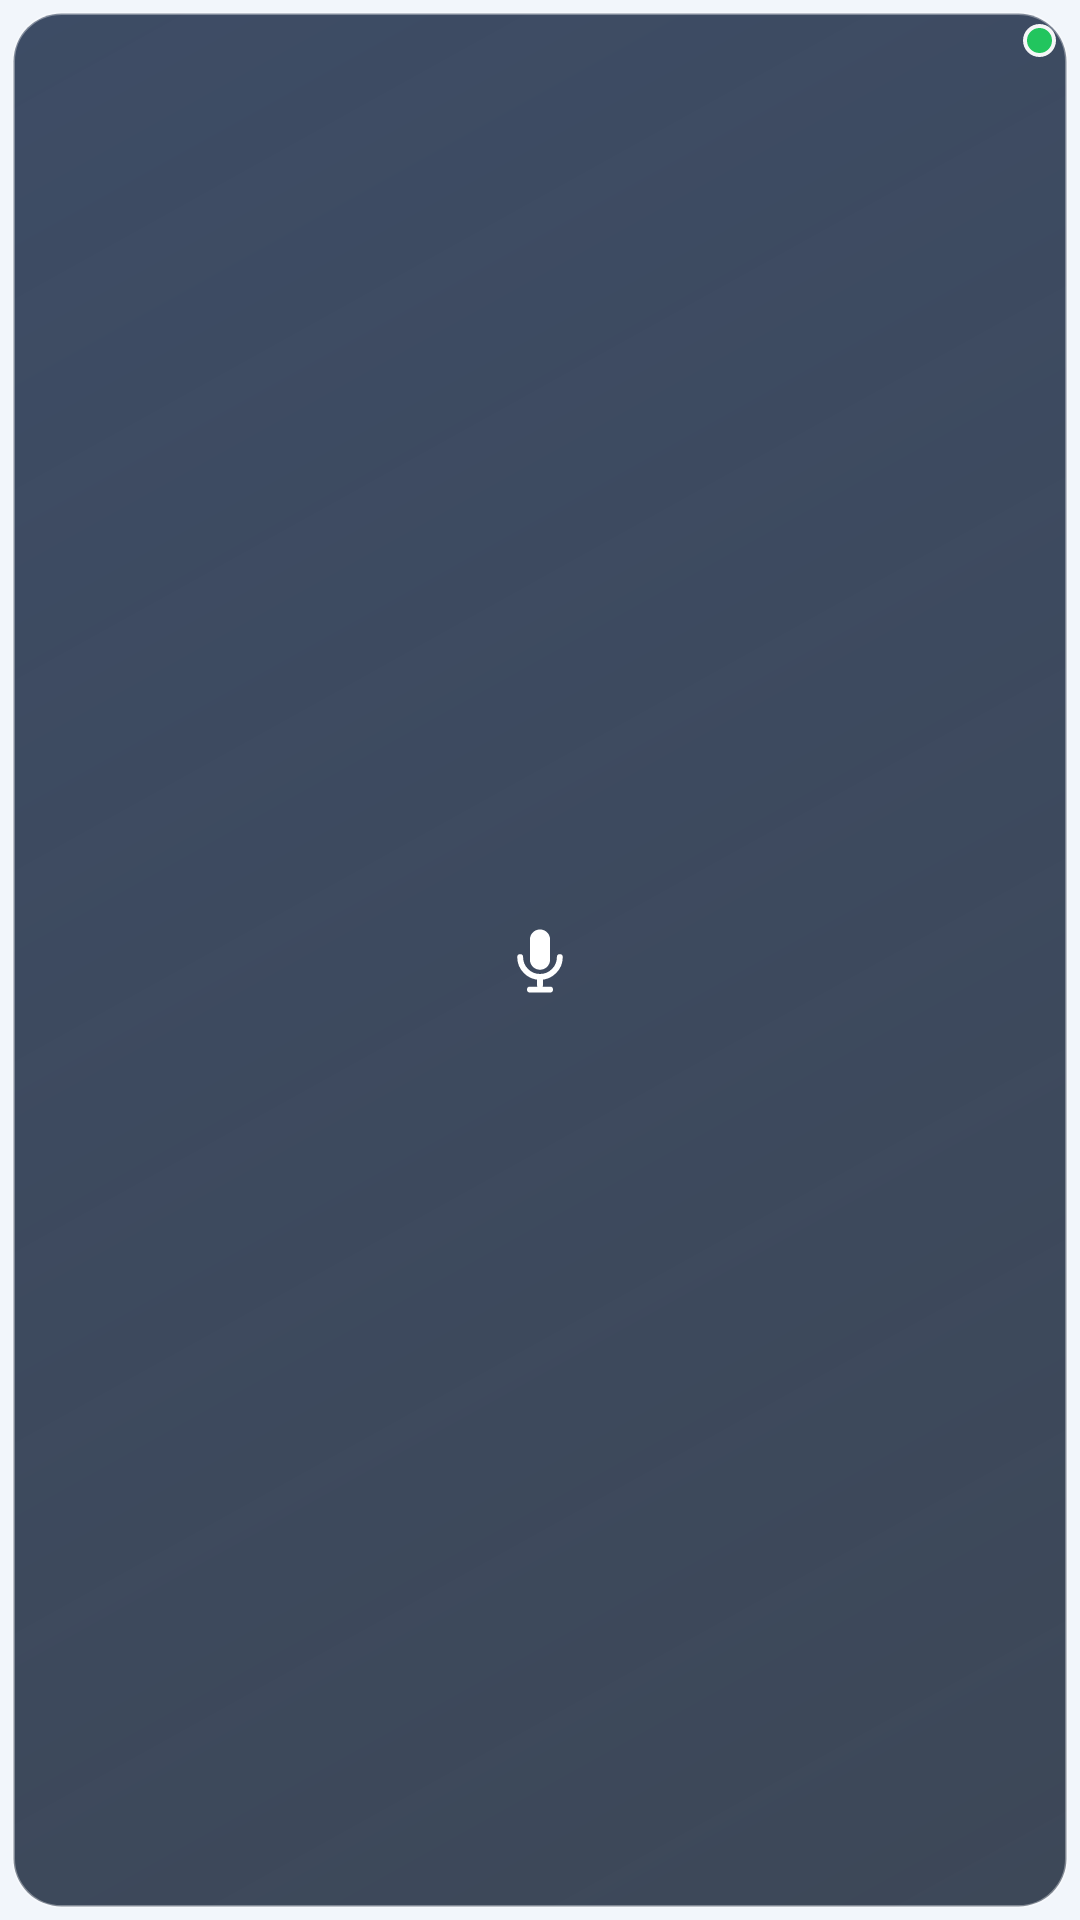

Icons on this 1080*1920 Android screen, each with its box as (x1, y1, x2, y2):
mic badge: (517, 929, 563, 993)
